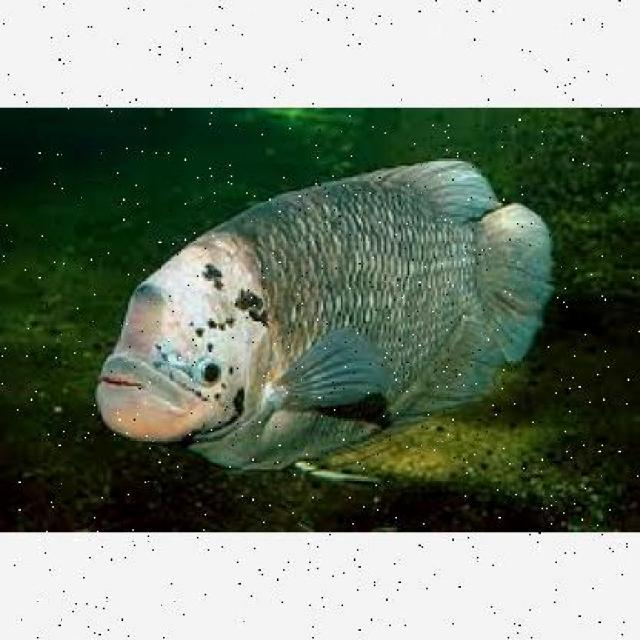gurame: (94, 157, 546, 474)
